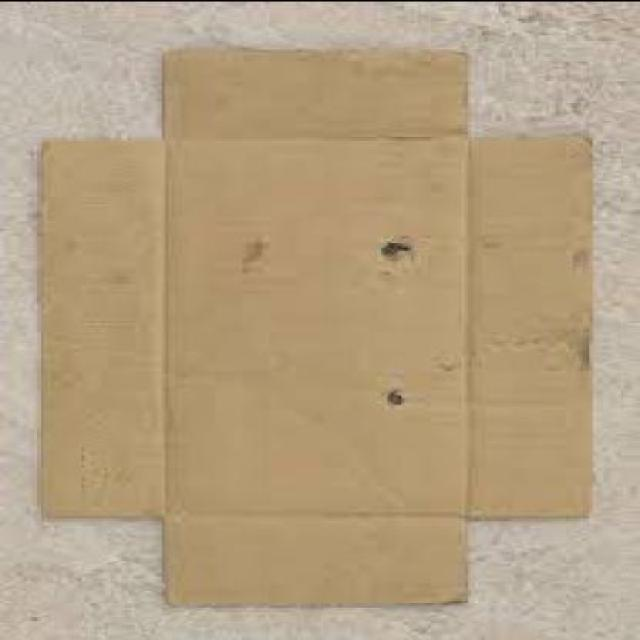CARDBOARD: (33, 49, 593, 612)
